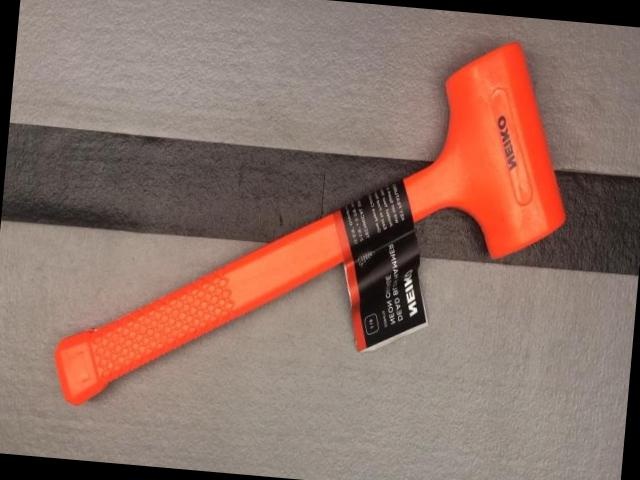hammer: (48, 7, 580, 445)
